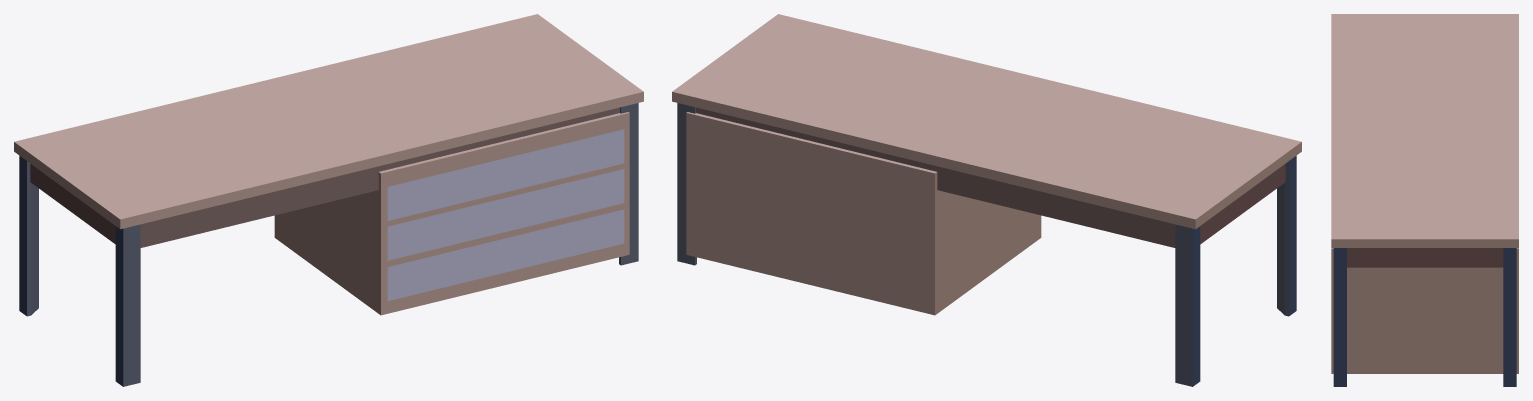
Rendered from table_1.glb.
The picture shows the model from 3 angles, left to right: view 1: azimuth 30°, elevation 25°; view 2: azimuth 150°, elevation 25°; view 3: azimuth 270°, elevation 25°; orthographic projection. The views are drawn at different scales.
Parts seen in each view (by area): view 1: table_1; view 2: table_1; view 3: table_1.
Part boxes in pixels (x1,y1,x2,y2): table_1: [14, 14, 643, 386]; table_1: [672, 14, 1301, 386]; table_1: [1331, 14, 1518, 386].
Bounding box in the file's own units: 2.63 × 0.8126 × 0.9299.
